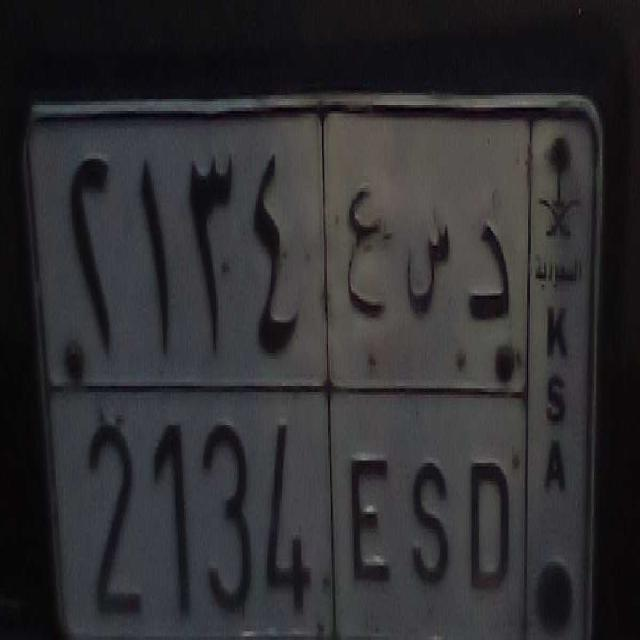license_plate: (46, 384, 525, 640)
